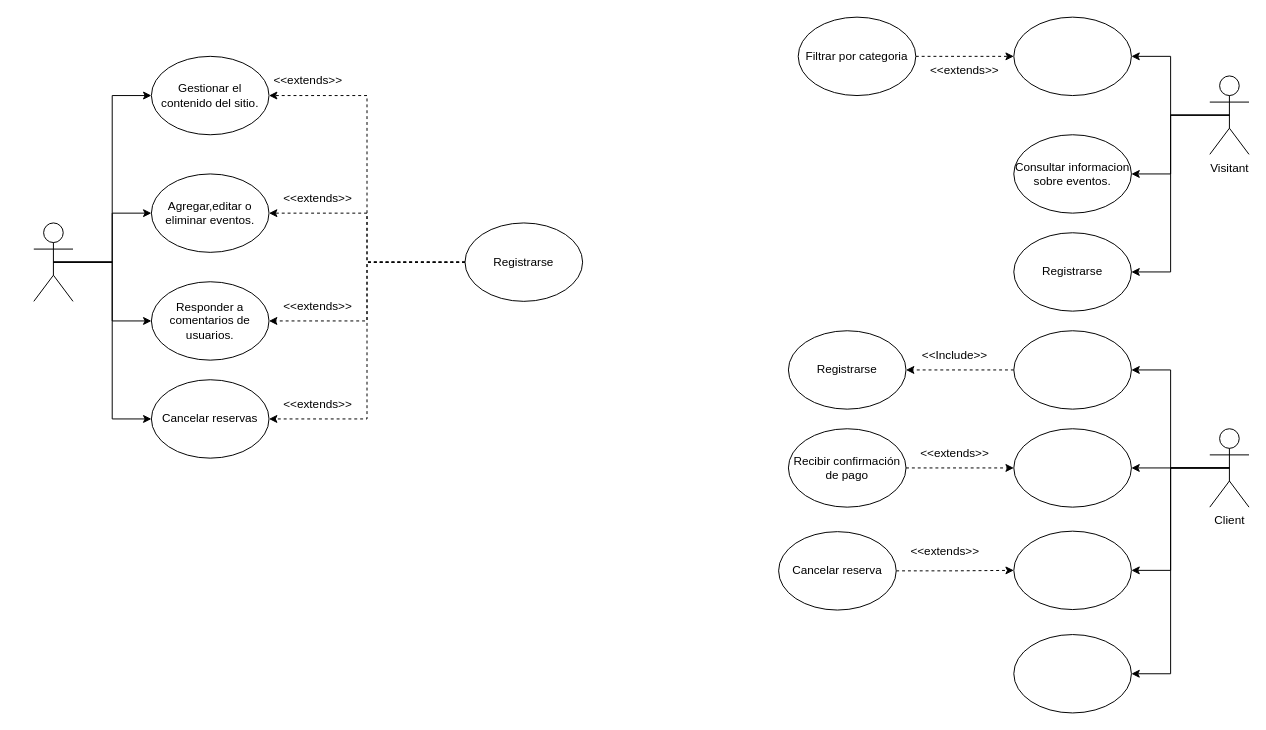
This 1266x730 diagram has some shape labels left out. The shapes that lost their labels are listed below. From the top down, each one's box as (x1, y1, x2, y2) in pixels, then its label:
(1013, 16, 1131, 96): Buscar eventos
(33, 222, 73, 301): Administrador
(1013, 330, 1131, 409): Iniciar session
(1013, 428, 1131, 507): Realitzar pagaments.
(1013, 530, 1131, 610): Reservar navegacion.
(1013, 634, 1131, 713): Deja comentarios y reseñas.
